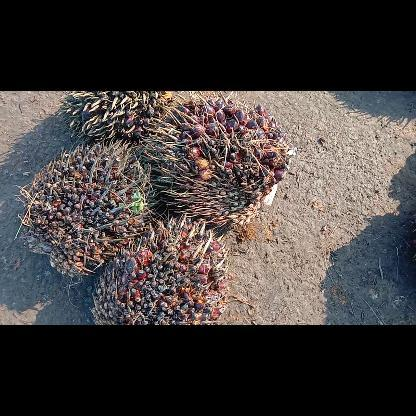TBS abnormal: (18, 140, 156, 278), (86, 210, 232, 324), (55, 91, 175, 149)
TBS masak: (140, 98, 294, 230)
